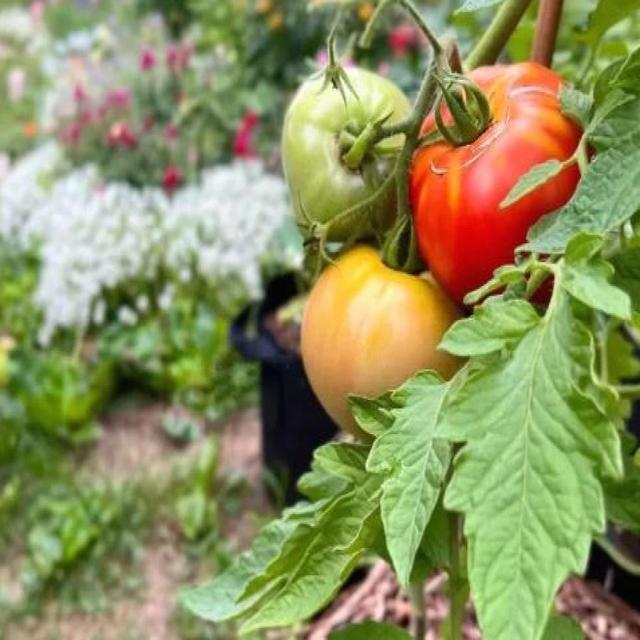Healthy Fruit: (271, 41, 394, 170)
